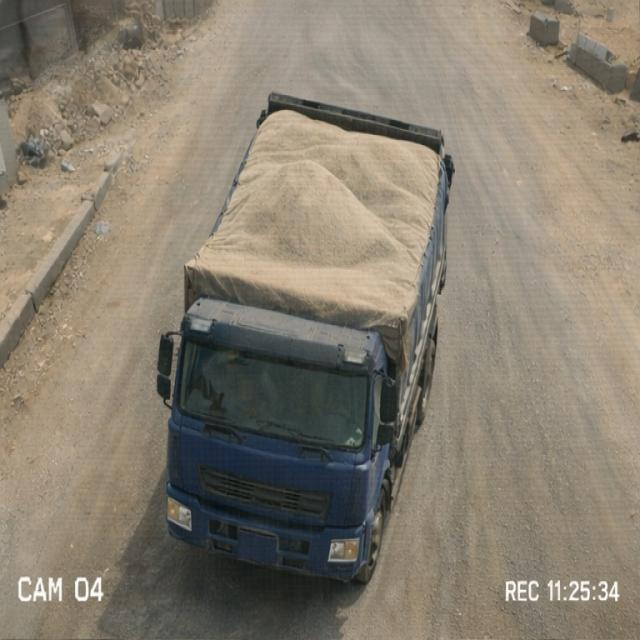Box: (174, 88, 454, 336)
Truck: (158, 70, 488, 580)
